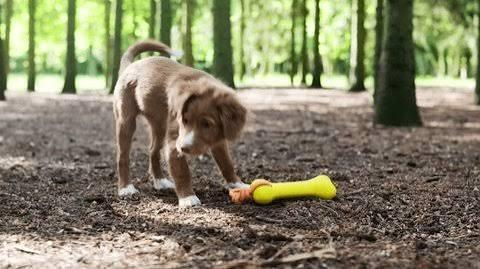puppy-dog: (111, 39, 248, 210)
